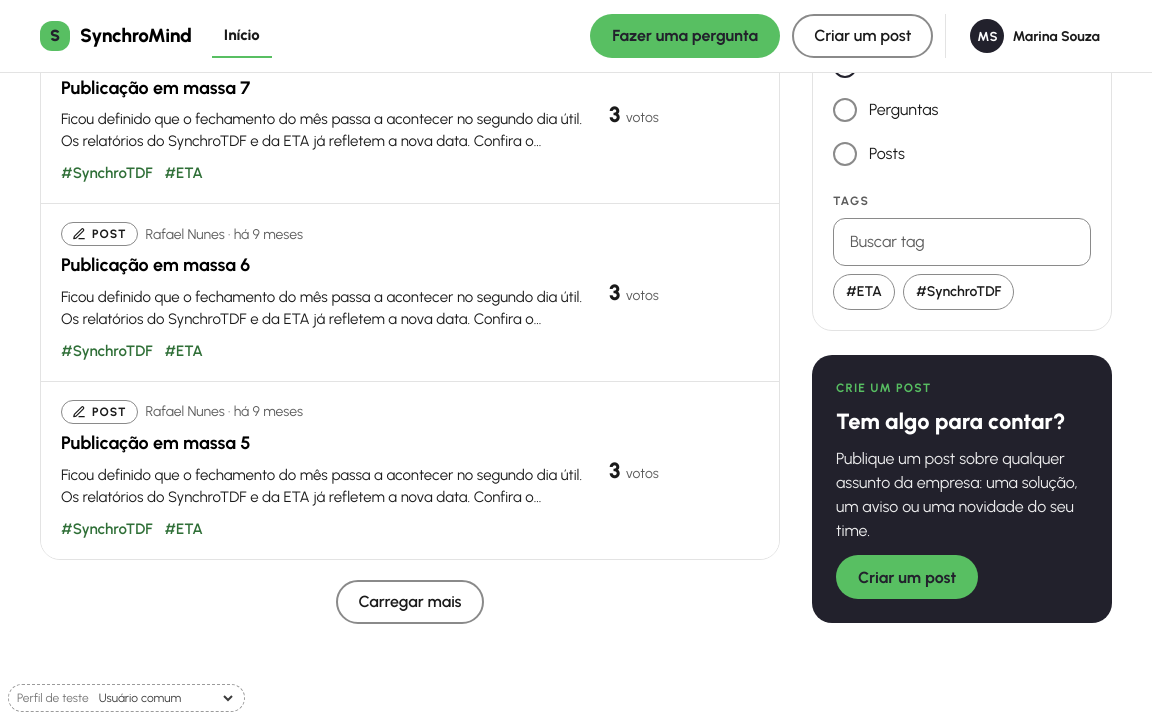
Test case: B1 início: lista › carrega mais de 20 em 20 com o botão "Carregar mais"
(page scrolled)
Click the button "Carregar mais". click: (410, 602)
box: x1=336 y1=580 x2=484 y2=624
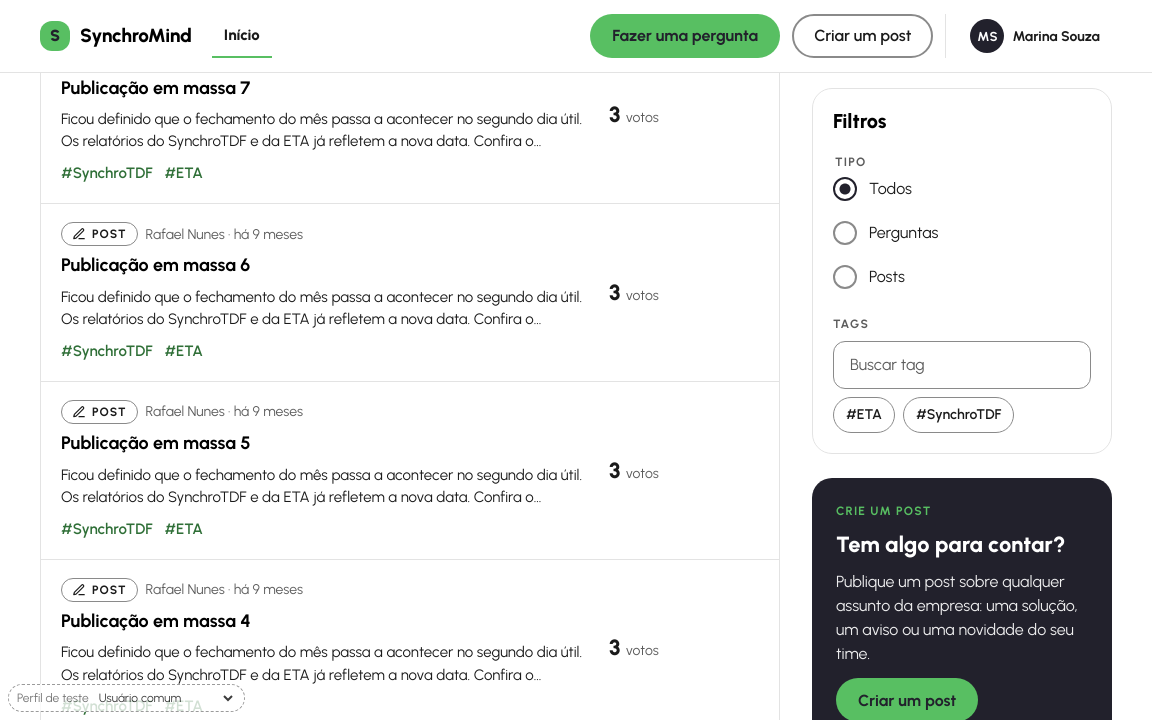
Expected: the button "Carregar mais" is gone
